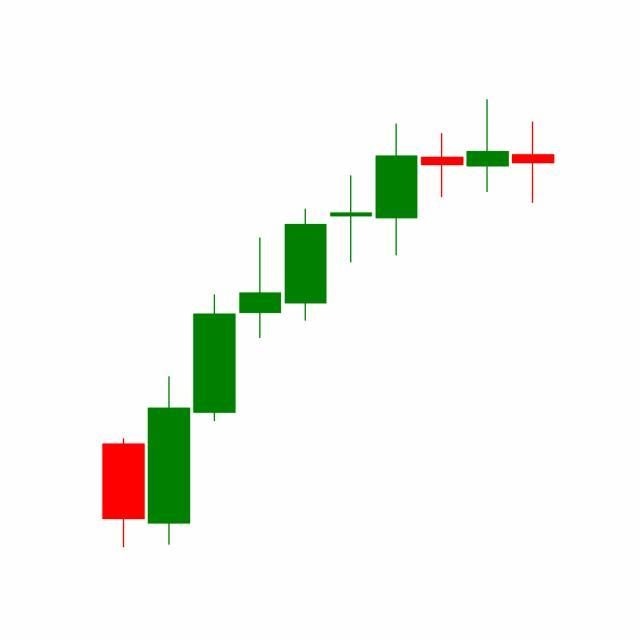Hikkake Pattern: (283, 99, 512, 325)
